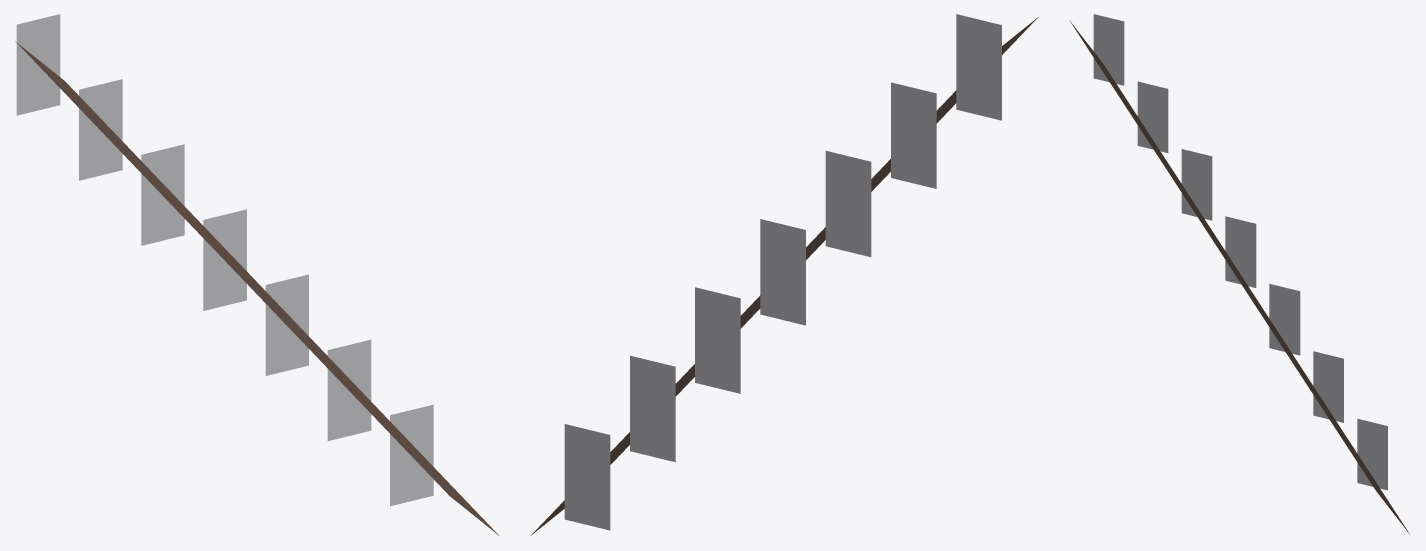
Rendered from chewie_bandolier.glb.
3 renders of one model, left to right at view 1: azimuth 30°, elevation 25°; view 2: azimuth 150°, elevation 25°; view 3: azimuth 330°, elevation 25°, orthographic. The views are drawn at different scales.
Visible parts, largest first — view 1: chewie_bandolier; view 2: chewie_bandolier; view 3: chewie_bandolier.
Boxes of the visible parts, x1,y1,x2,y2 form: chewie_bandolier: (15,14,499,535); chewie_bandolier: (531,14,1038,535); chewie_bandolier: (1069,14,1409,534).
Bounding box in the file's own units: 0.335 × 0.405 × 0.02.
